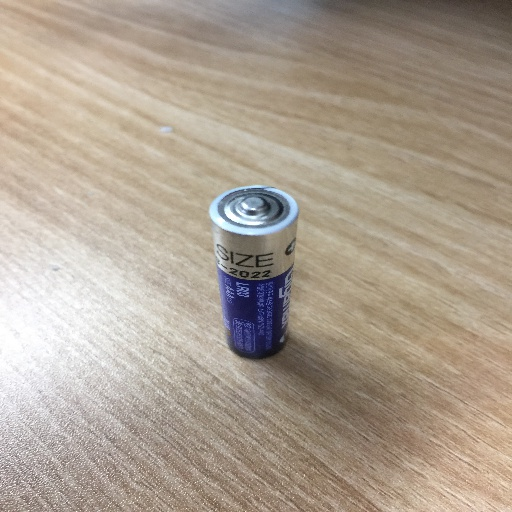Battery_0: (201, 159, 305, 372)
